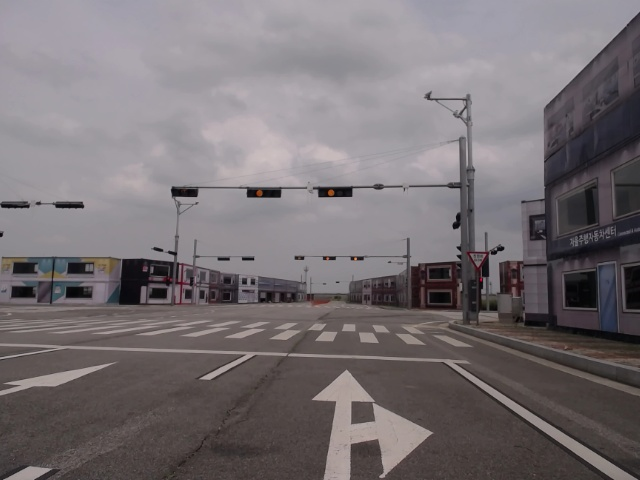orange_4: (317, 187, 353, 197), (246, 188, 281, 198), (351, 256, 366, 262), (322, 256, 337, 261)
